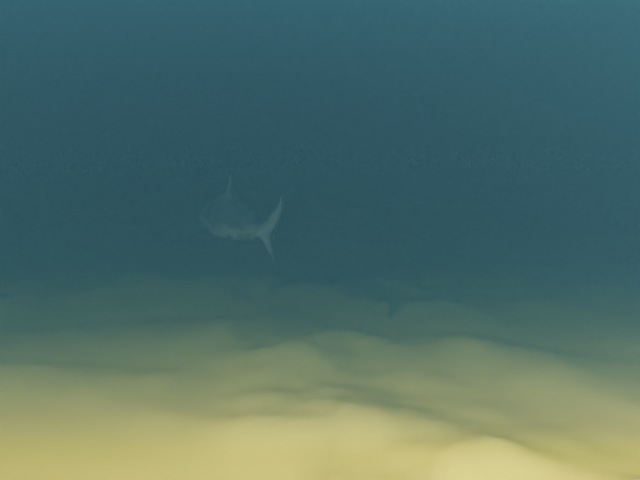Carribean Shark.001: (159, 169, 298, 264)
